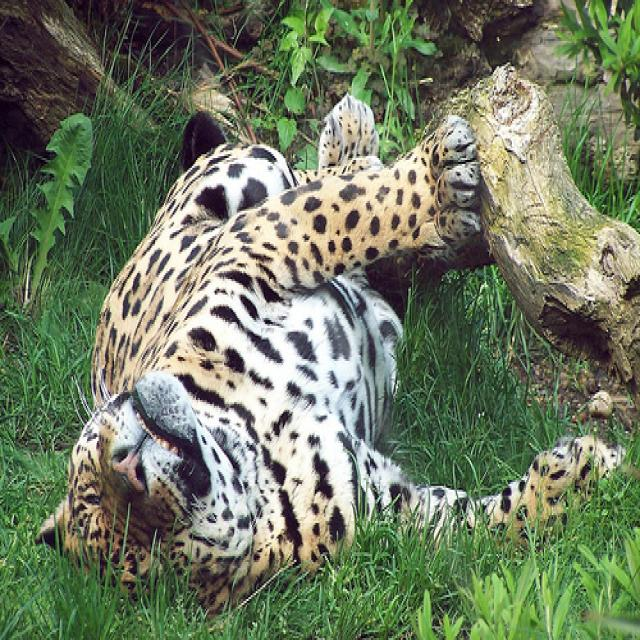Leopard: (34, 88, 620, 599)
